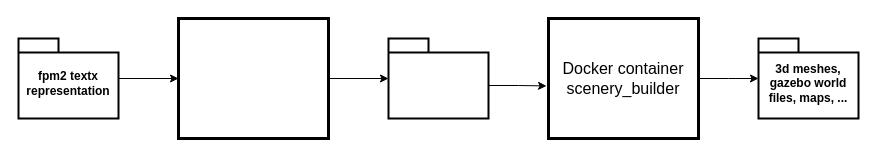
This 876x157 diagram has some shape labels left out. Each missing label, with the box of its shape:
Docker container FloorPlan-DSL: (176, 16, 330, 140)
JSON-LD models: (387, 37, 489, 119)
